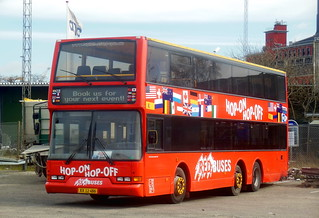bus: (45, 35, 289, 205)
